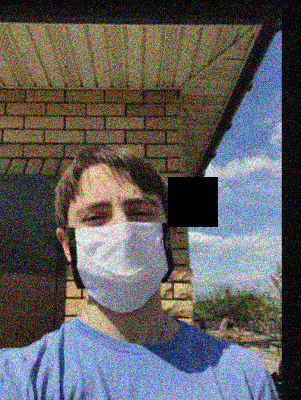with_mask: (66, 185, 171, 312)
